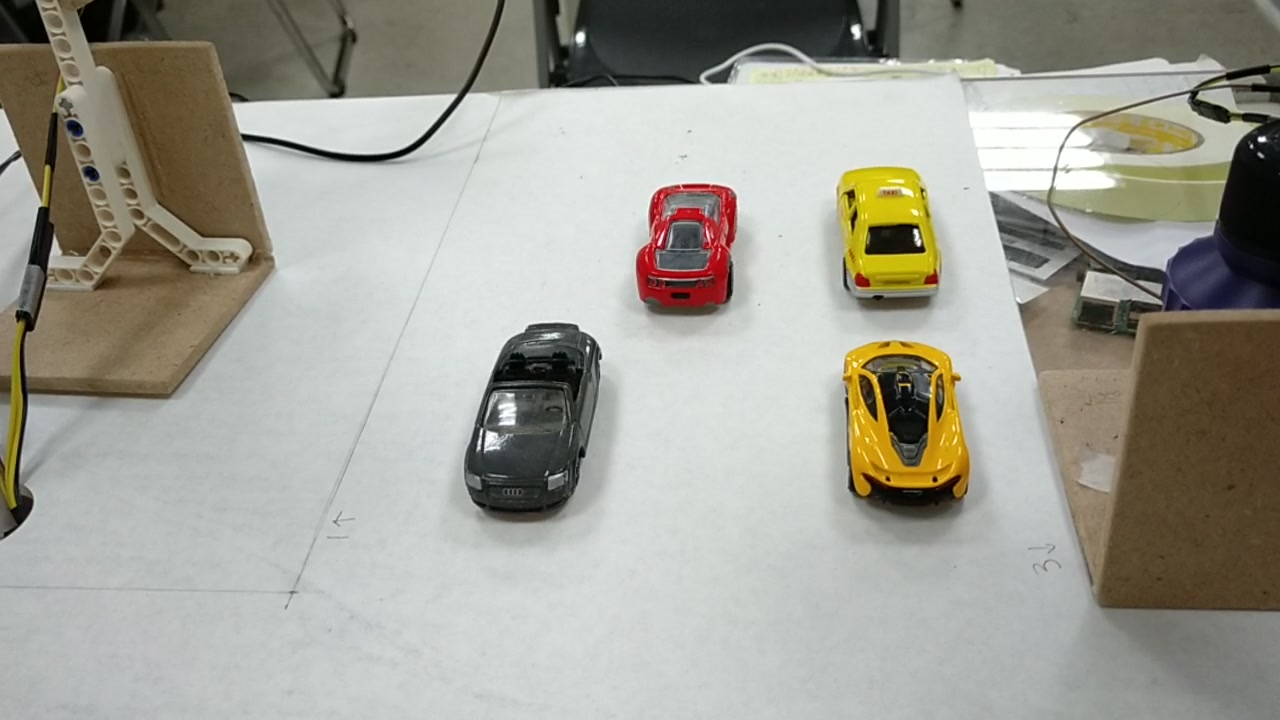car: (462, 330, 609, 512), (845, 333, 963, 510), (838, 160, 931, 305), (634, 187, 740, 310)
